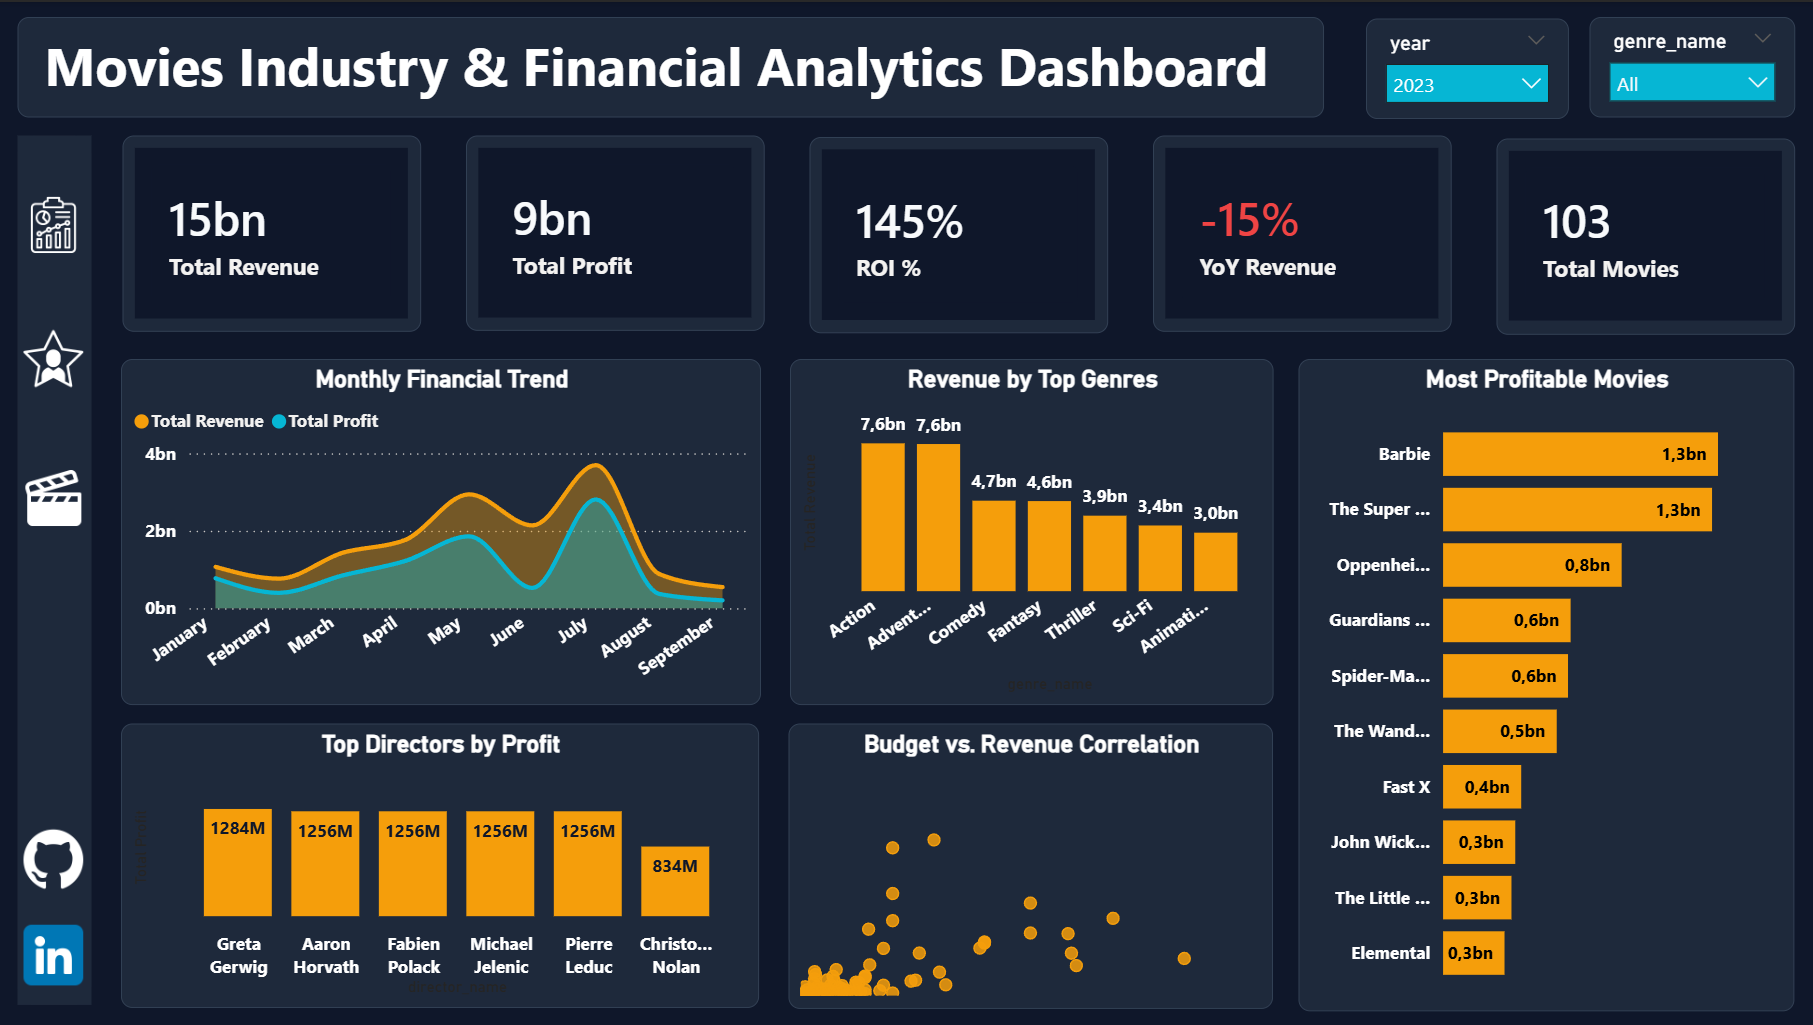

Layout of this report page (visuals, bound fields, positions):
{"tool":"powerbi","page":{"name":"Page 1","canvas":[1280,720],"ordinal":0},"visuals":[{"type":"textbox","box":[13.7,10.5,918.6,70.7],"z":0},{"type":"slicer","fields":{"Values":["dim_date.year"]},"box":[961.9,11.6,142.4,70.7],"z":1000},{"type":"slicer","fields":{"Values":["dim_genres.genre_name"]},"box":[1119,10.5,144.5,70.7],"z":2000},{"type":"lineChart","title":"Monthly Financial Trend","fields":{"Category":["dim_date.month_name"],"Y":["_Key_Metrics.Total Revenue","_Key_Metrics.Total Profit"]},"box":[86,250.7,450.1,243.6],"z":3000},{"type":"clusteredColumnChart","title":"Revenue by Top Genres","fields":{"Category":["dim_genres.genre_name"],"Y":["_Key_Metrics.Total Revenue"]},"box":[556.4,250.7,340.3,243.6],"z":4000},{"type":"columnChart","title":"Top Directors by Profit","fields":{"Category":["dim_directors.director_name"],"Y":["_Key_Metrics.Total Profit"]},"box":[87,507.8,449,199.8],"z":5000},{"type":"clusteredBarChart","title":"Most Profitable Movies","fields":{"Category":["fact_movies.title"],"Y":["Max(fact_movies.Profit)"]},"box":[914.6,250.7,348.7,458.5],"z":6000},{"type":"scatterChart","title":"Budget vs. Revenue Correlation","fields":{"X":["_Key_Metrics.Total Budget"],"Y":["_Key_Metrics.Total Revenue"],"Category":["fact_movies.title"]},"box":[556,507.8,340.9,201],"z":7000},{"type":"shape","box":[13.3,94.2,52,611.4],"z":8000},{"type":"image","box":[17.9,323.8,42.2,49.6],"z":9000},{"type":"image","box":[18.1,645.2,42.3,49.5],"z":10000},{"type":"image","box":[17.9,131.8,42.2,49.6],"z":11000},{"type":"image","box":[18.1,577.6,42.3,49.5],"z":12000},{"type":"image","box":[17.9,225.7,42.2,49.6],"z":13000},{"type":"cardVisual","fields":{"Data":["_Key_Metrics.Total Revenue"]},"box":[87.9,94.2,210,138.2],"z":14000},{"type":"cardVisual","fields":{"Data":["_Key_Metrics.Total Profit"]},"box":[329.3,94.2,210,137.1],"z":15000},{"type":"cardVisual","fields":{"Data":["_Key_Metrics.ROI %"]},"box":[570.8,95.3,210,138.2],"z":16000},{"type":"cardVisual","fields":{"Data":["_Key_Metrics.YoY Revenue Growth %"]},"box":[812.2,93.9,210,138.2],"z":17000},{"type":"cardVisual","fields":{"Data":["_Key_Metrics.Total Movies Formatted"]},"box":[1053.6,95.5,210.2,137.7],"z":18000}]}

Visuals, with their boxes in screenshot pixels (x1, y1, x2, y2), scaled from the page's 1280x720 canvas onto the 1813x1025 screenshot:
textbox: 19,15,1321,116
slicer - dim_date.year: 1362,17,1564,117
slicer - dim_genres.genre_name: 1585,15,1790,116
"Monthly Financial Trend" lineChart: 122,357,759,704
"Revenue by Top Genres" clusteredColumnChart: 788,357,1270,704
"Top Directors by Profit" columnChart: 123,723,759,1007
"Most Profitable Movies" clusteredBarChart: 1295,357,1789,1010
"Budget vs. Revenue Correlation" scatterChart: 788,723,1270,1009
shape: 19,134,92,1005
image: 25,461,85,532
image: 26,919,86,989
image: 25,188,85,258
image: 26,822,86,893
image: 25,321,85,392
cardVisual - _Key_Metrics.Total Revenue: 125,134,422,331
cardVisual - _Key_Metrics.Total Profit: 466,134,764,329
cardVisual - _Key_Metrics.ROI %: 808,136,1106,332
cardVisual - _Key_Metrics.YoY Revenue Growth %: 1150,134,1448,330
cardVisual - _Key_Metrics.Total Movies Formatted: 1492,136,1790,332
